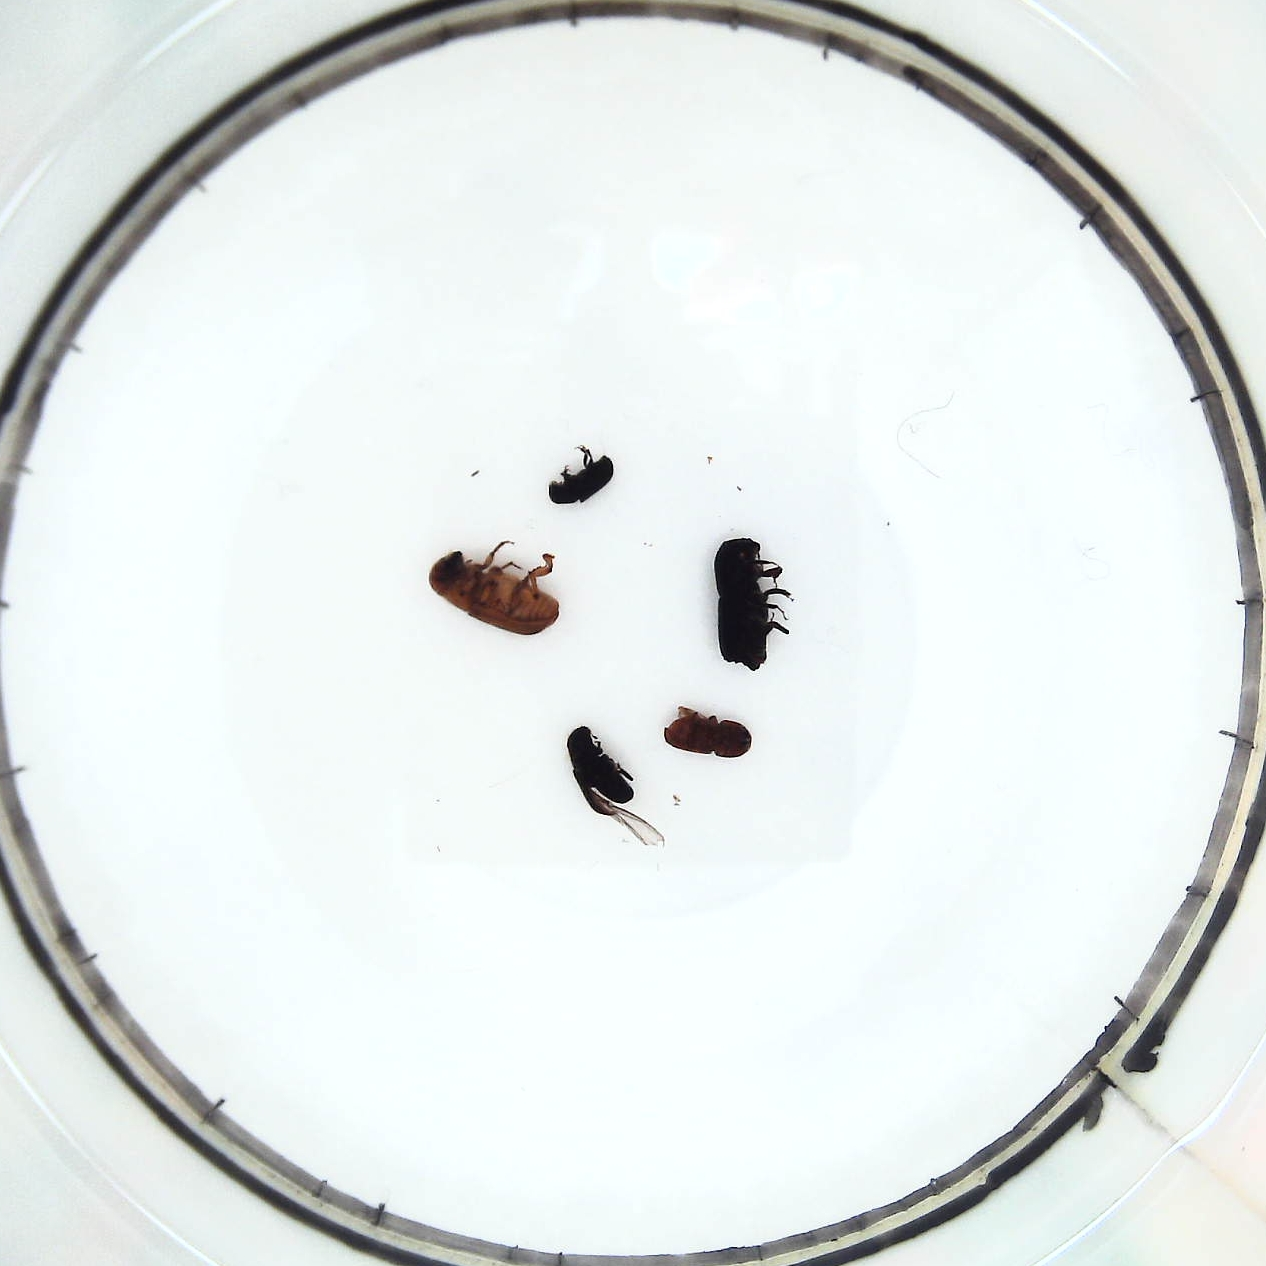Boerner: (707, 527, 795, 679)
Leconte: (419, 540, 563, 636)
armandi: (563, 723, 659, 852)
coleoptera: (546, 442, 619, 511)
linnaeus: (659, 703, 758, 767)
